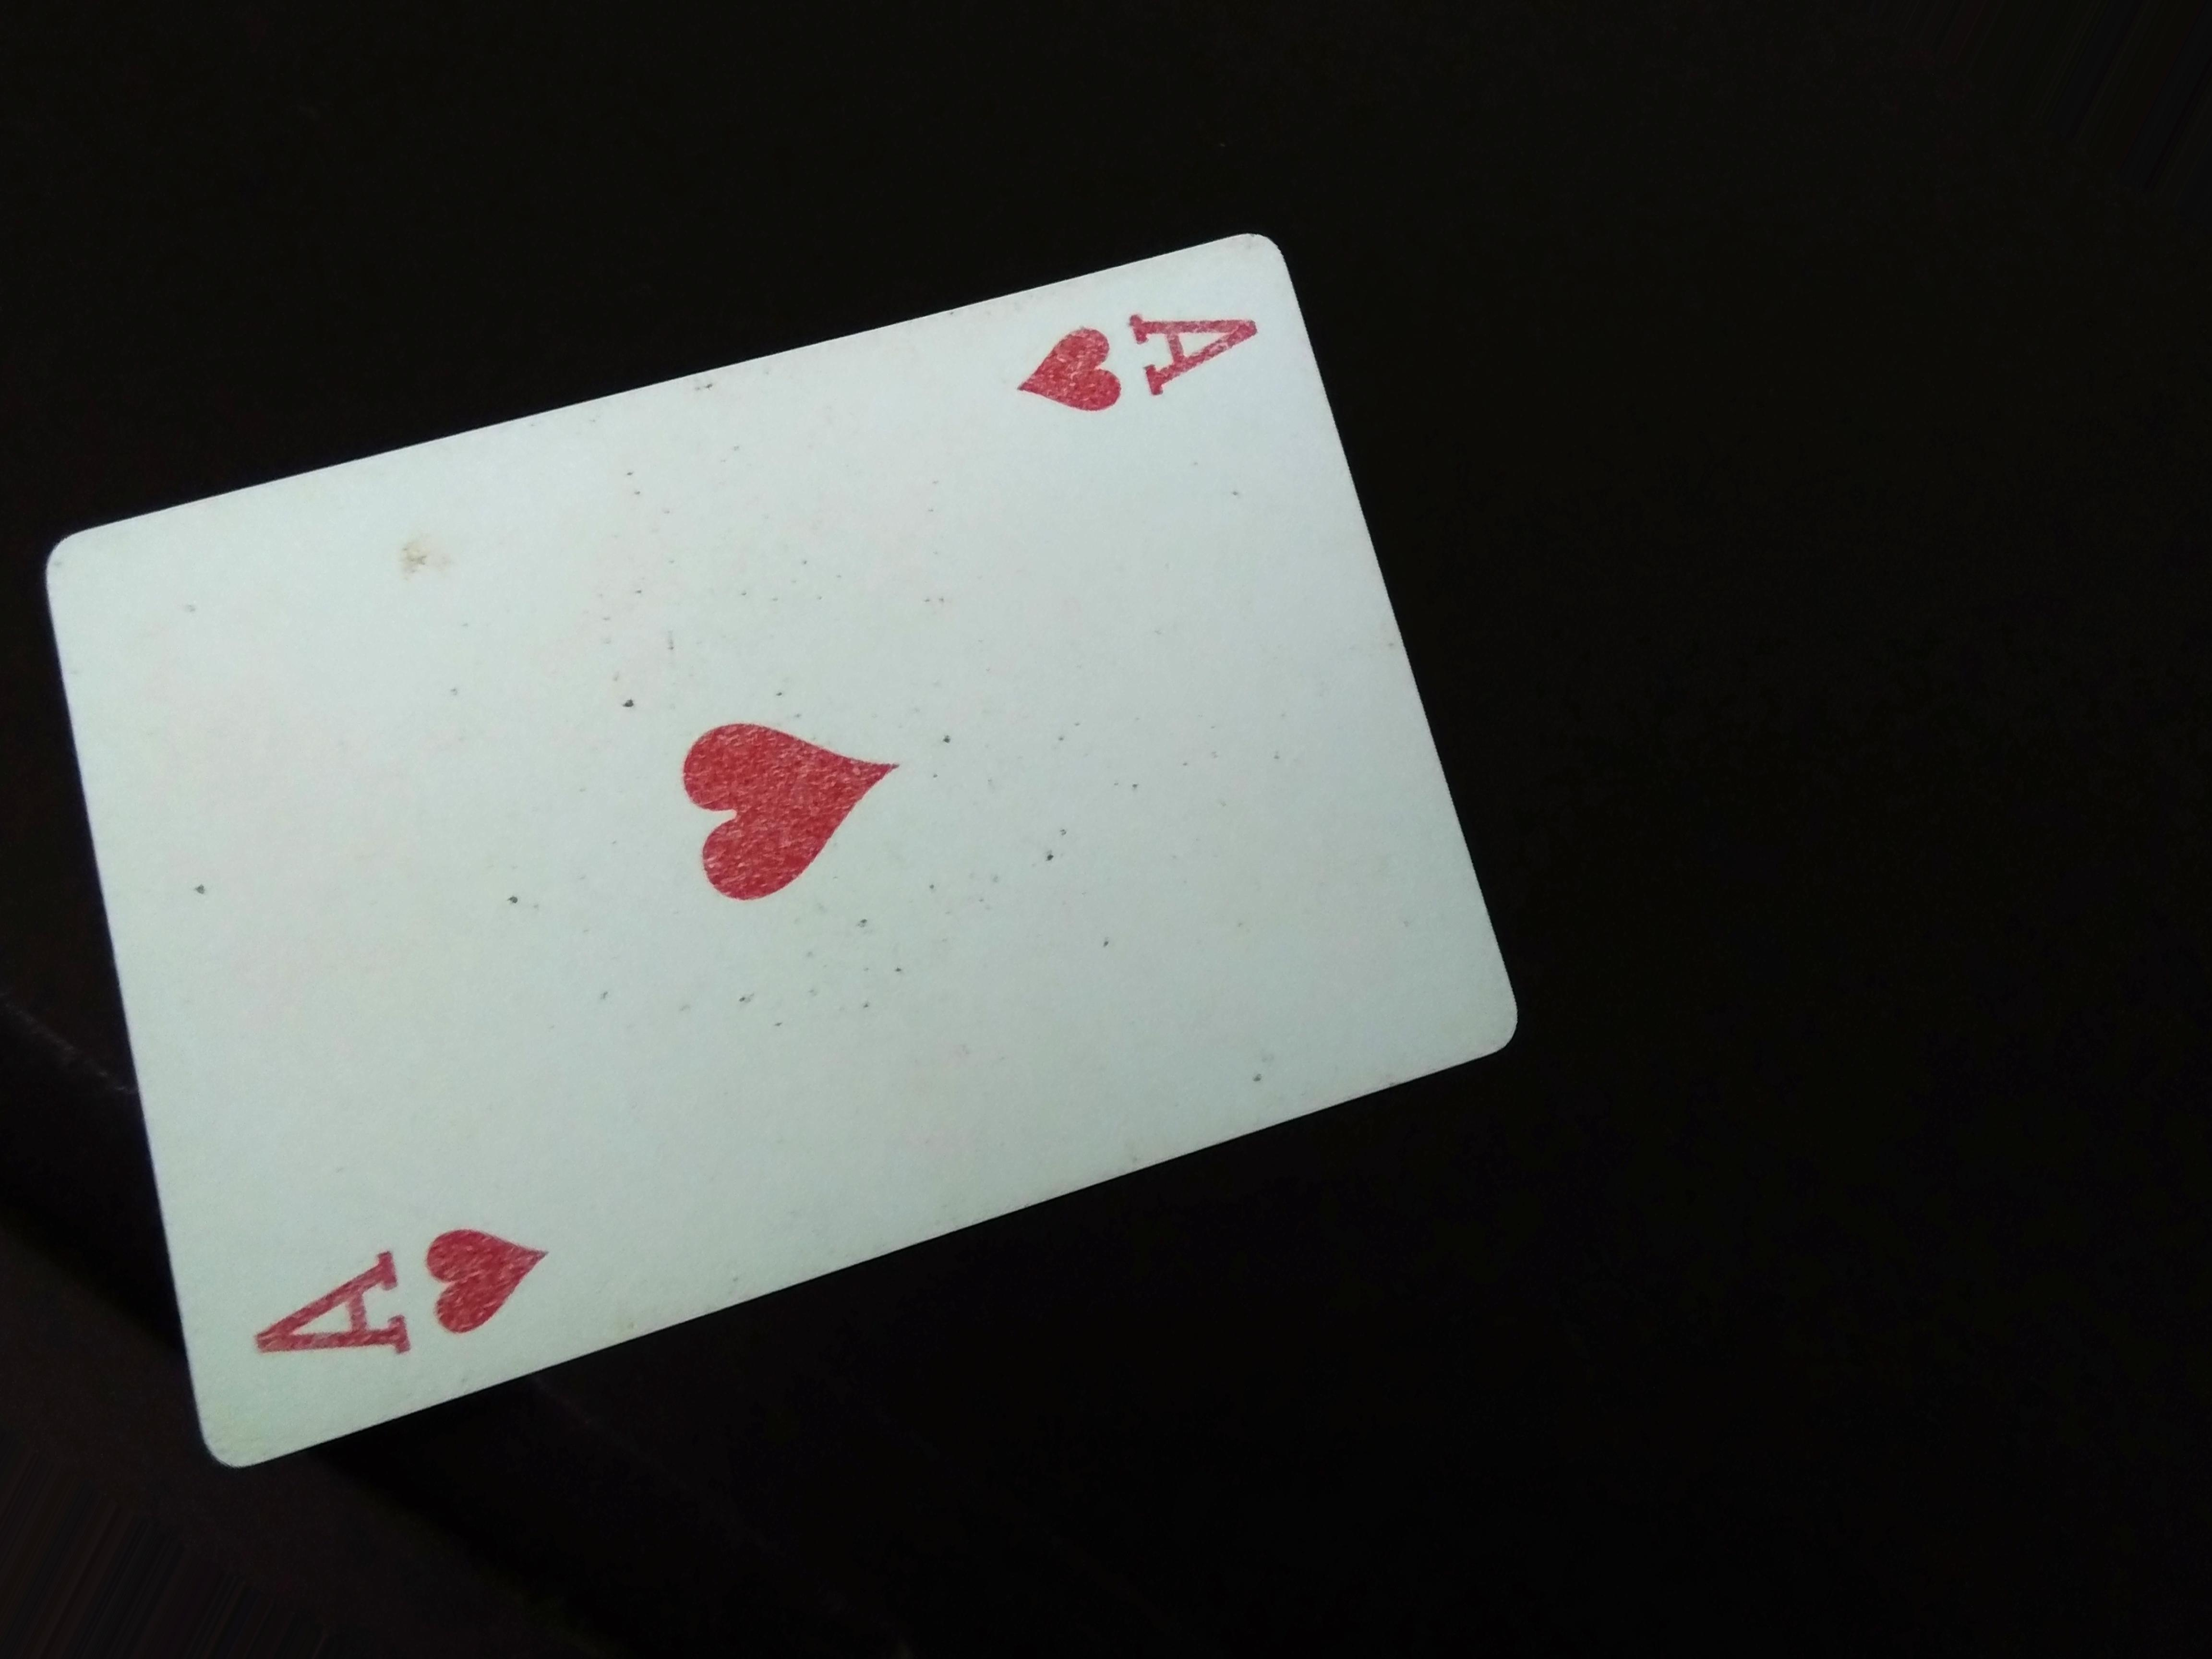AH: (242, 1166, 580, 1391)
